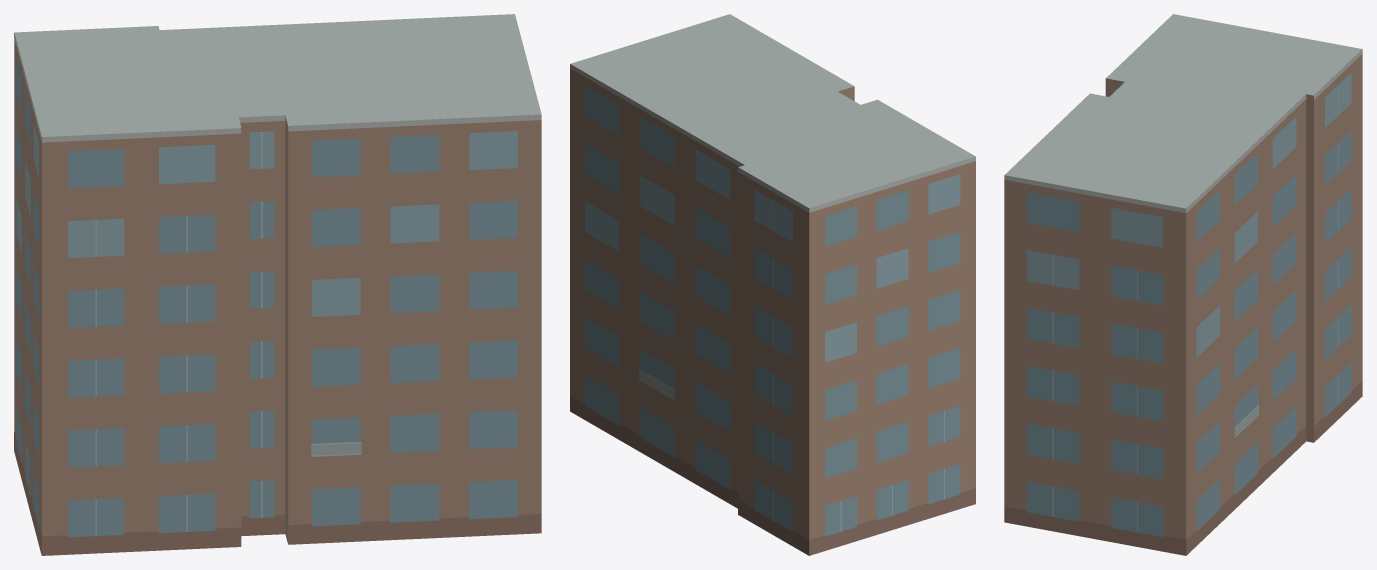
The model's file is survey-upis-33043441.glb.
3 views of the same model, side by side, from view 1: azimuth 30°, elevation 25°; view 2: azimuth 150°, elevation 25°; view 3: azimuth 270°, elevation 25° (orthographic). The views are drawn at different scales.
Visible parts, largest first — view 1: survey-upis-33043441.tmp; view 2: survey-upis-33043441.tmp; view 3: survey-upis-33043441.tmp.
Boxes of the visible parts, <box> form: survey-upis-33043441.tmp: <box>14,14,541,555</box>; survey-upis-33043441.tmp: <box>570,14,975,555</box>; survey-upis-33043441.tmp: <box>1004,14,1362,555</box>.
Bounding box in the file's own units: 22 × 18.3 × 17.11.
